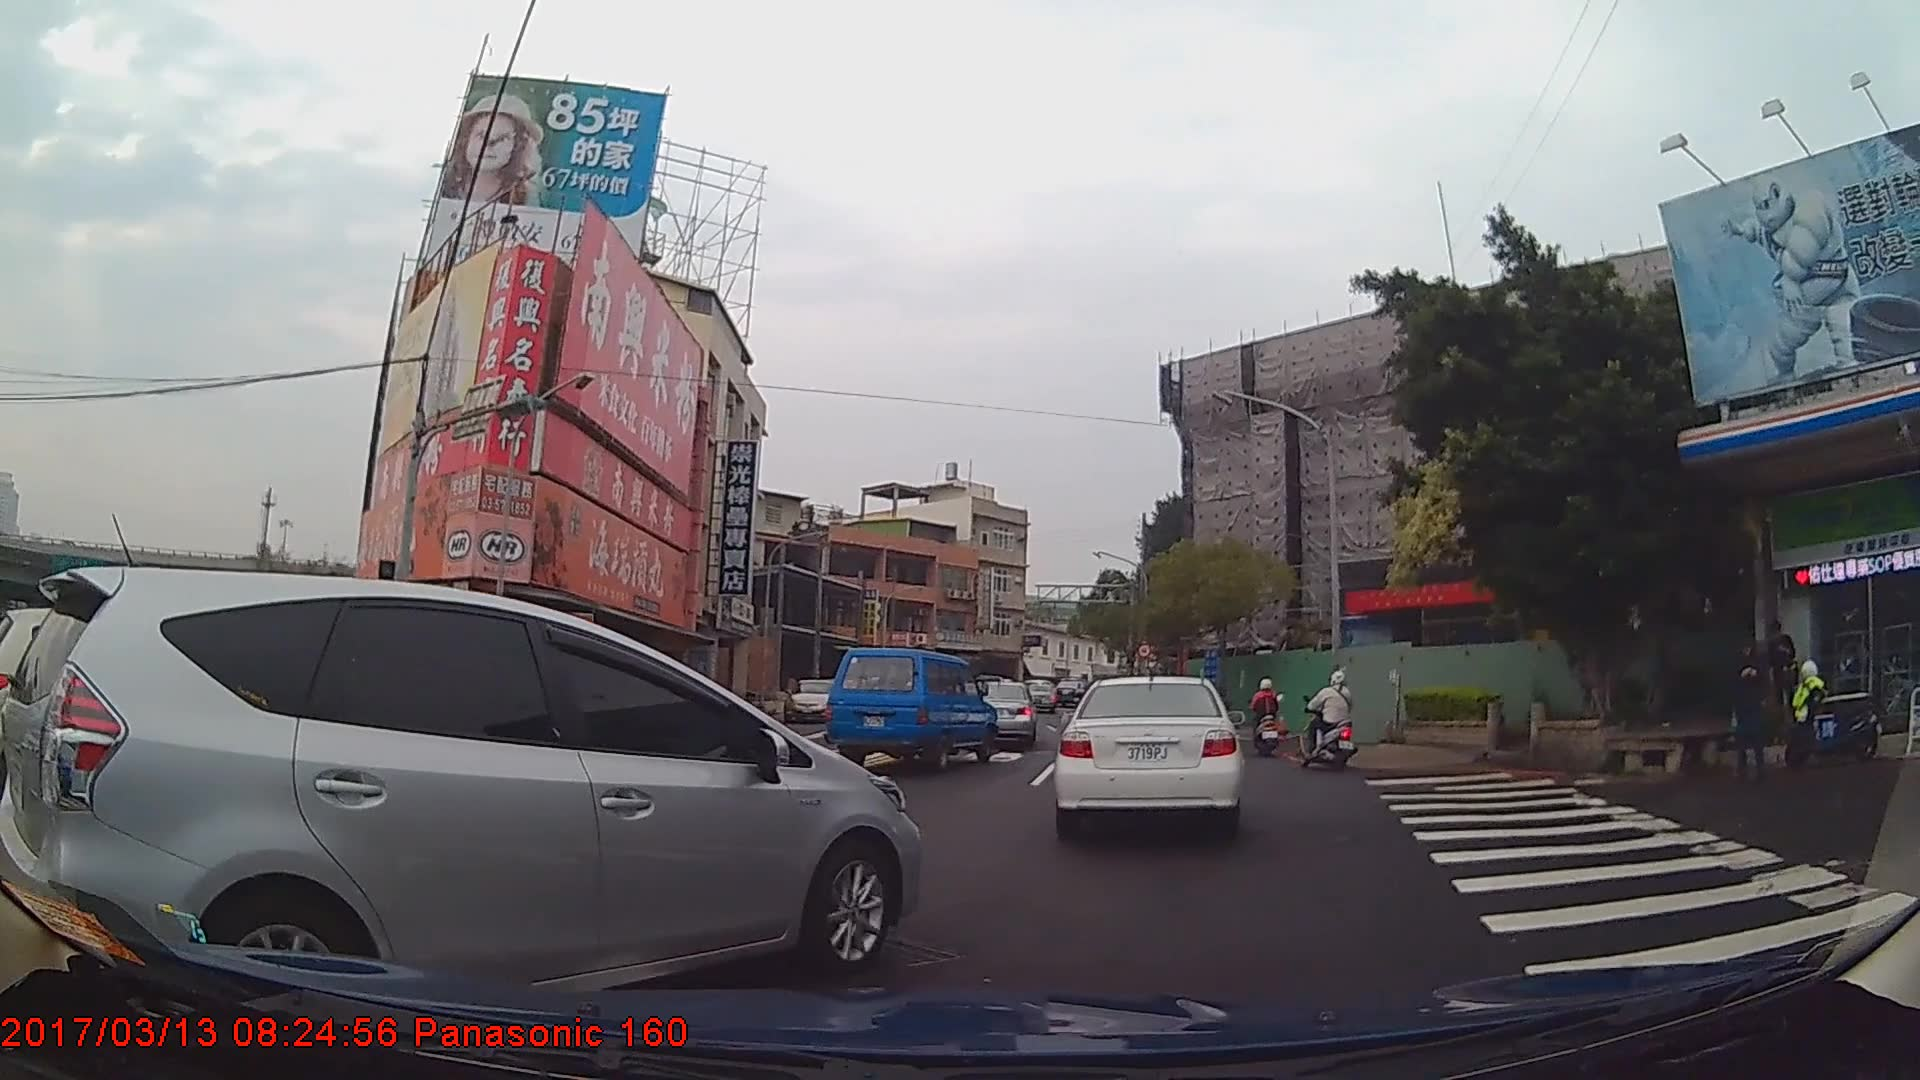pedestrian: (1729, 638, 1774, 773), (1761, 618, 1798, 725)
rider: (1304, 666, 1362, 766), (1251, 674, 1286, 752)
vehicle: (0, 565, 925, 1018), (1055, 671, 1248, 835), (824, 643, 998, 766), (966, 679, 1037, 747), (783, 675, 845, 724)
